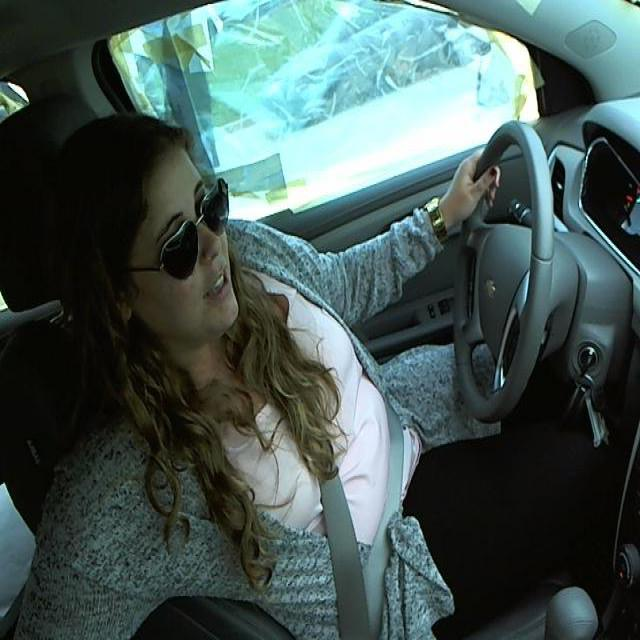seatbelt: (270, 373, 414, 631)
